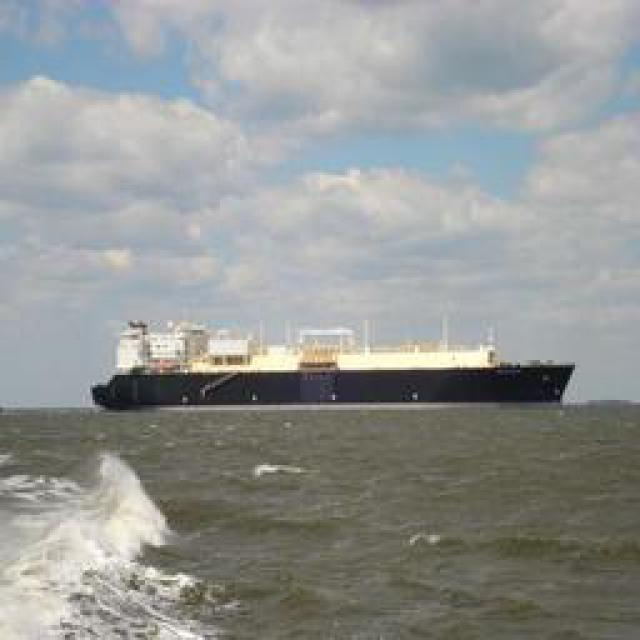Ship: (99, 325, 552, 408)
